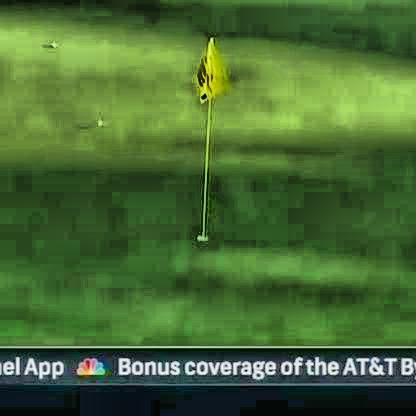golfball: (94, 115, 104, 125)
